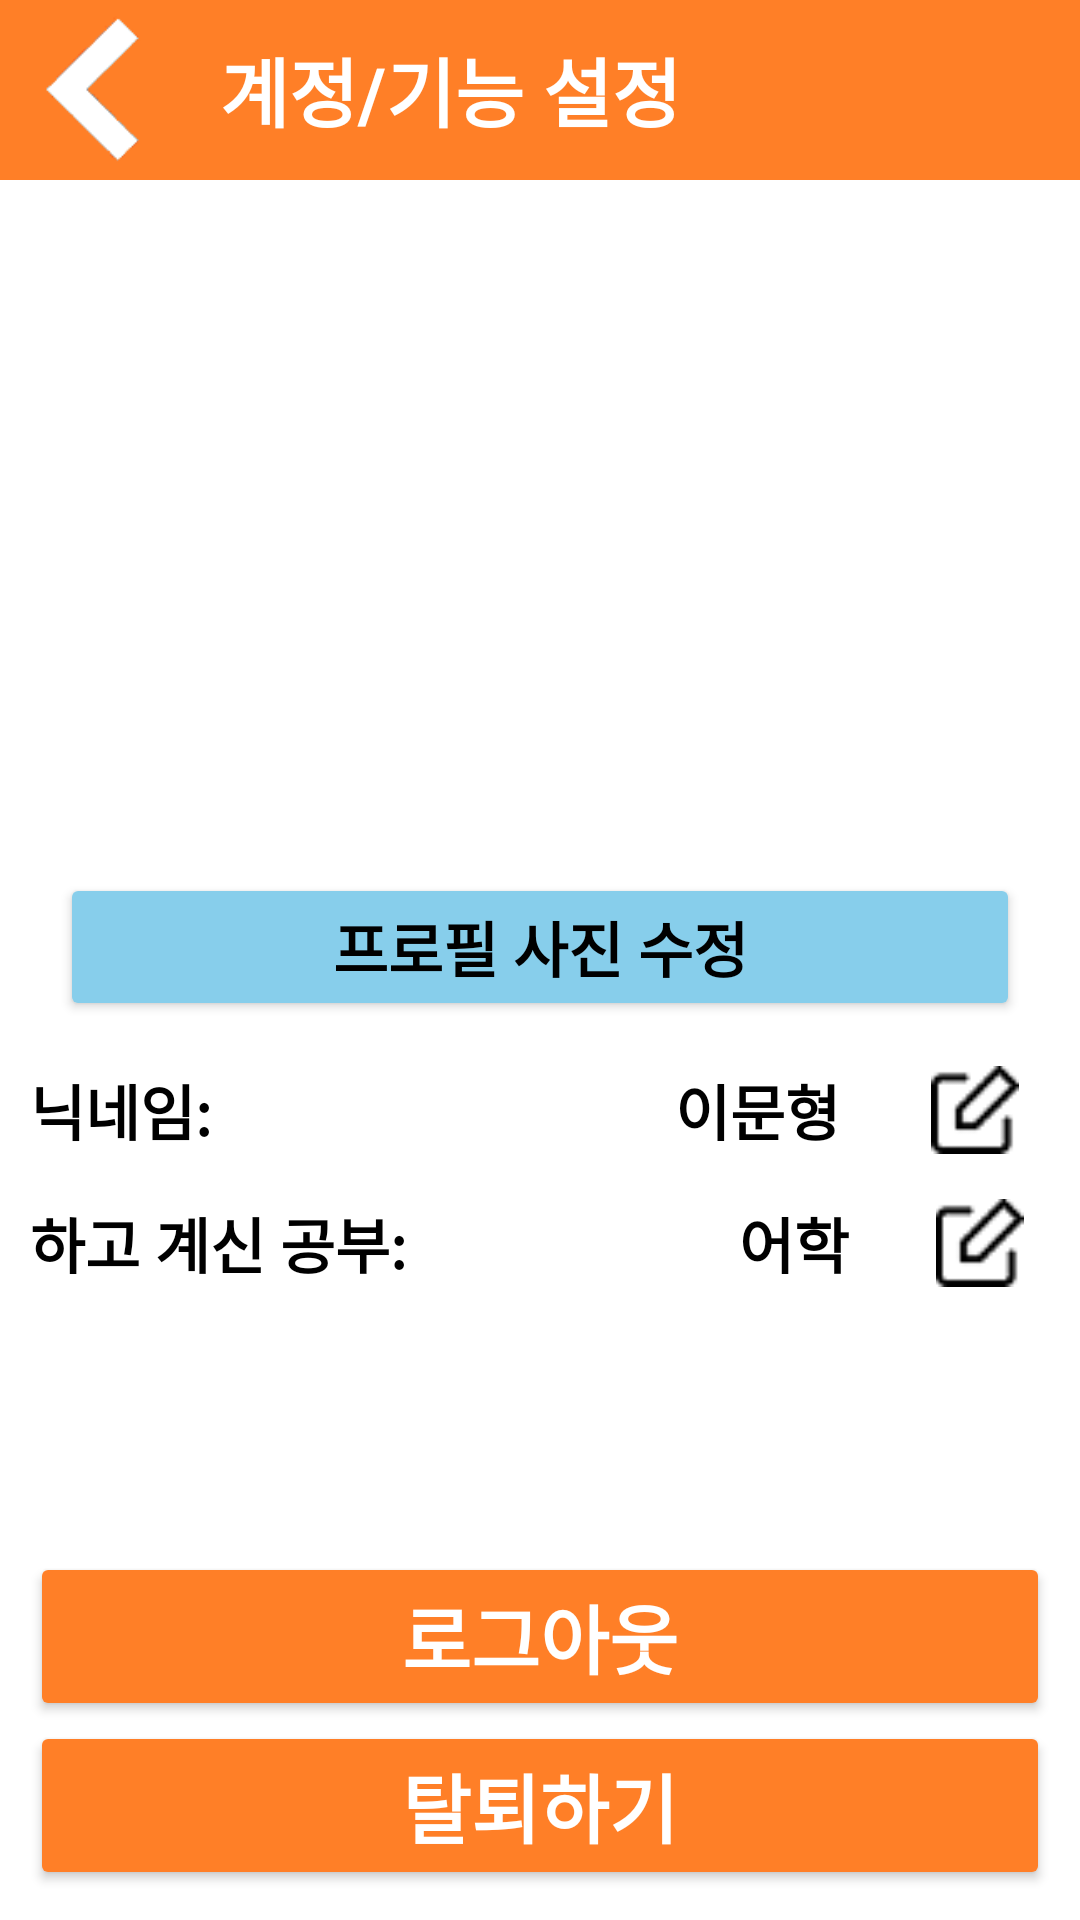

Point at icon controls on the screen. Image size 1080×1920, points as (x=x, y=y).
backicon: (x=92, y=90)
edit: (x=975, y=1110), (x=980, y=1243)
